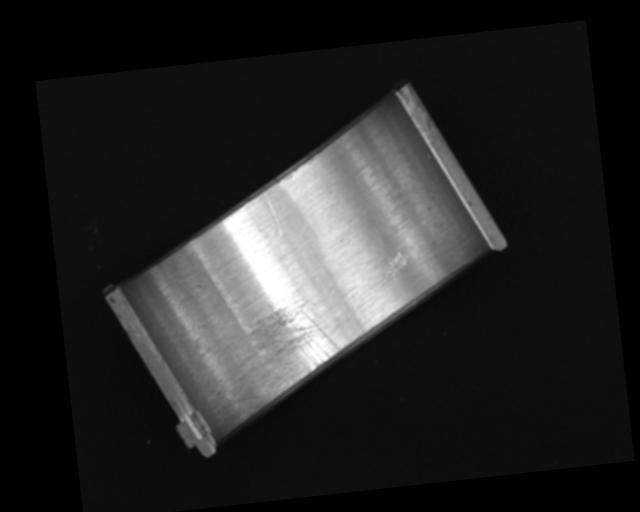bruise: (378, 249, 410, 278)
nick: (266, 194, 283, 237)
scratch: (236, 294, 347, 415)
